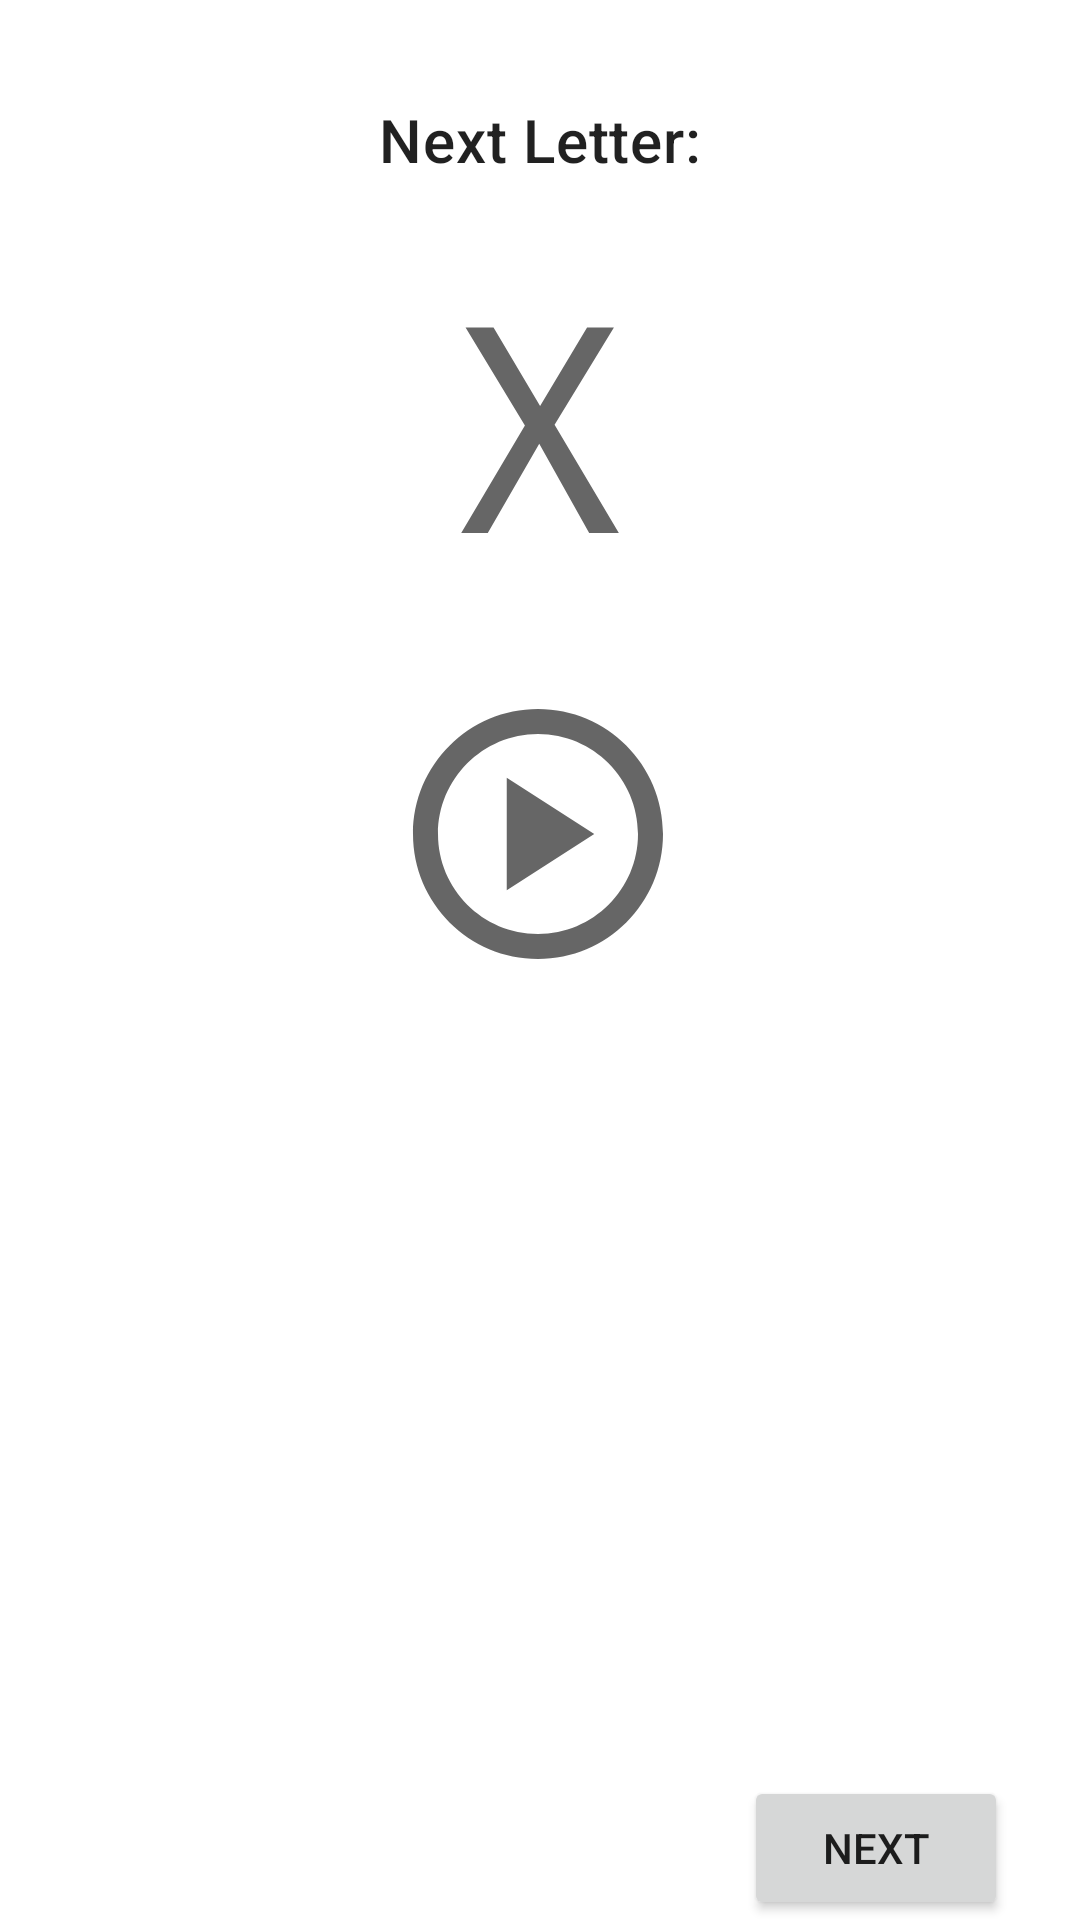

Icon bounding boxes for this 1080*1920 phone screenshot, format (x1, y1, x2, y2):
Play: (413, 709, 663, 959)
